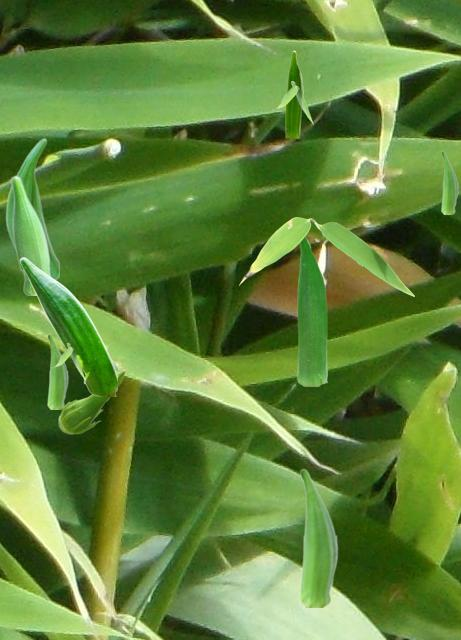okra: (19, 257, 116, 395), (5, 137, 58, 279), (299, 468, 337, 606), (10, 175, 51, 294), (296, 237, 326, 385), (58, 369, 125, 433), (47, 334, 67, 408), (285, 50, 302, 137), (441, 151, 457, 213)
